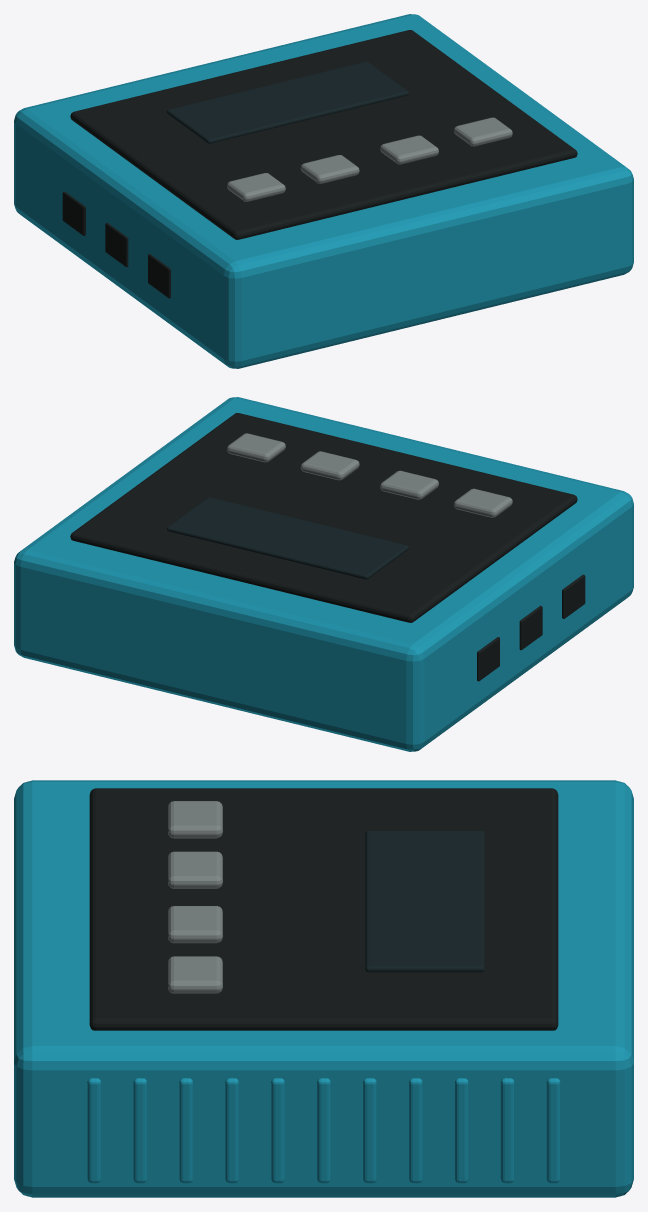
The picture shows the model from 3 angles, top to bottom: view 1: azimuth 30°, elevation 25°; view 2: azimuth 150°, elevation 25°; view 3: azimuth 270°, elevation 25°; orthographic projection. The views are drawn at different scales.
Parts seen in each view (by area): view 1: Blue flat charger body, Black top panel, Unlit top screen, Unlabelled top key; view 2: Blue flat charger body, Black top panel, Unlit top screen, Unlabelled top key; view 3: Blue flat charger body, Black top panel, Unlit top screen, Unlabelled top key.
Boxes of the visible parts, bbox=[...] form: Blue flat charger body: bbox=[14, 14, 633, 368]; Black top panel: bbox=[62, 30, 577, 298]; Unlit top screen: bbox=[166, 61, 408, 143]; Unlabelled top key: bbox=[227, 117, 512, 201]; Blue flat charger body: bbox=[14, 397, 633, 751]; Black top panel: bbox=[70, 413, 585, 681]; Unlit top screen: bbox=[166, 497, 408, 579]; Unlabelled top key: bbox=[227, 433, 512, 517]; Blue flat charger body: bbox=[14, 780, 633, 1197]; Black top panel: bbox=[89, 788, 558, 1030]; Unlit top screen: bbox=[365, 830, 484, 972]; Unlabelled top key: bbox=[168, 801, 222, 993].
Bounding box in the file's own units: 0.1475 × 0.0415 × 0.135.
